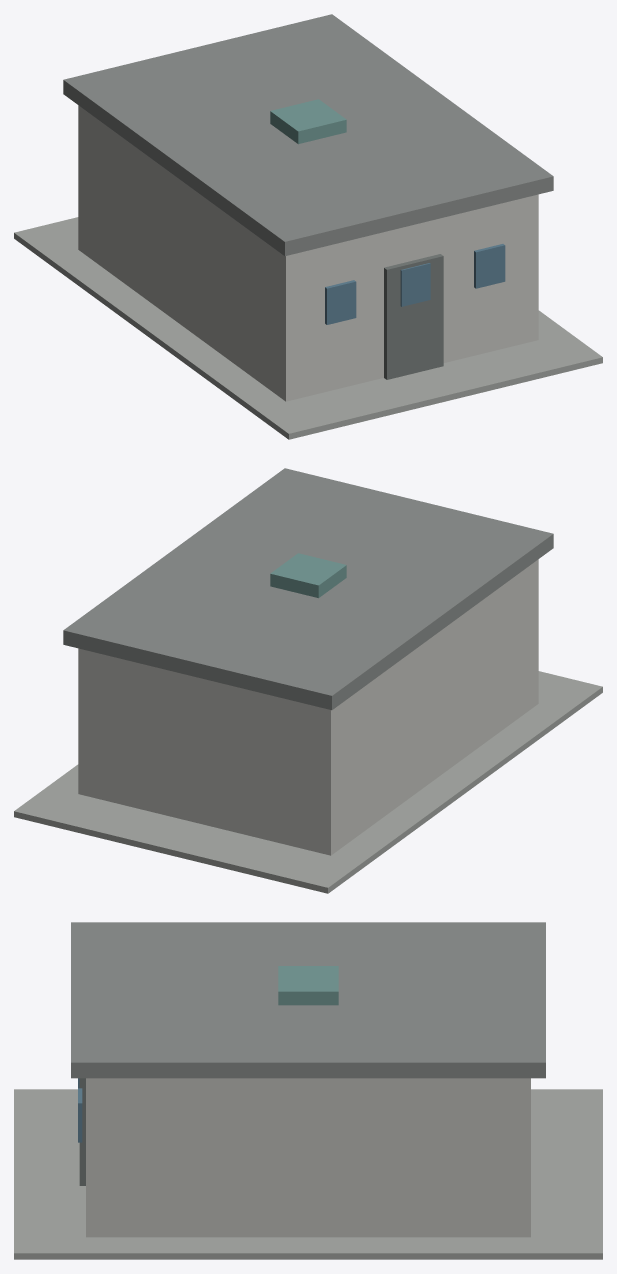
The model's file is townhouse.glb.
3 renders of one model, top to bottom at view 1: azimuth 30°, elevation 25°; view 2: azimuth 150°, elevation 25°; view 3: azimuth 270°, elevation 25°, orthographic. The views are drawn at different scales.
Parts seen in each view (by area): view 1: townhouse; view 2: townhouse; view 3: townhouse.
Boxes of the visible parts, x1,y1,x2,y2 form: townhouse: [14, 14, 602, 439]; townhouse: [14, 468, 602, 893]; townhouse: [14, 922, 602, 1259].
Size of the model in its own units: 3.88 by 2.19 by 5.88.
